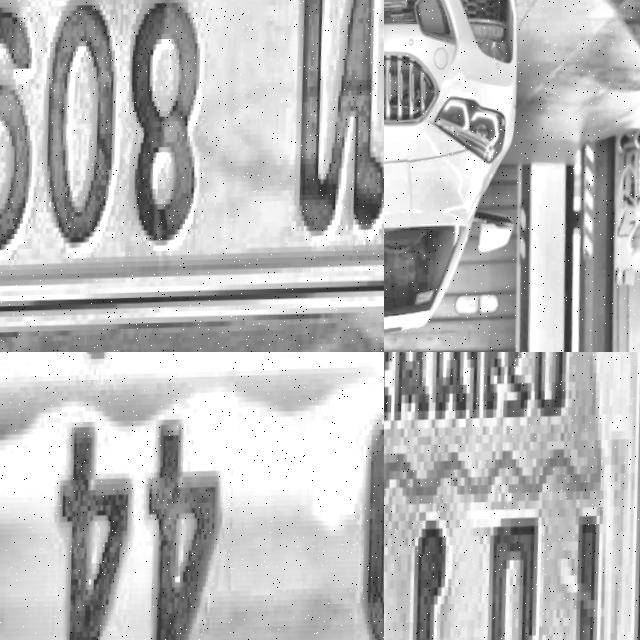license-plate: (0, 0, 384, 331), (0, 352, 384, 640), (384, 352, 640, 640)
